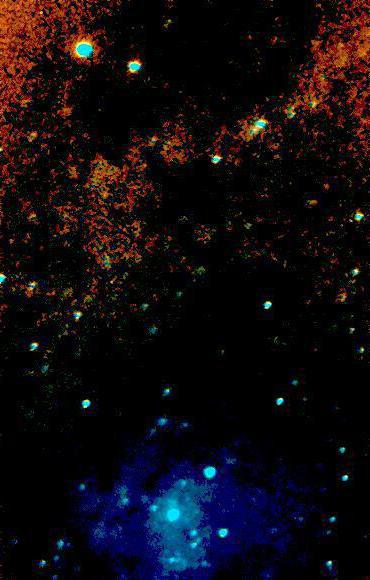star: (21, 121, 51, 151)
